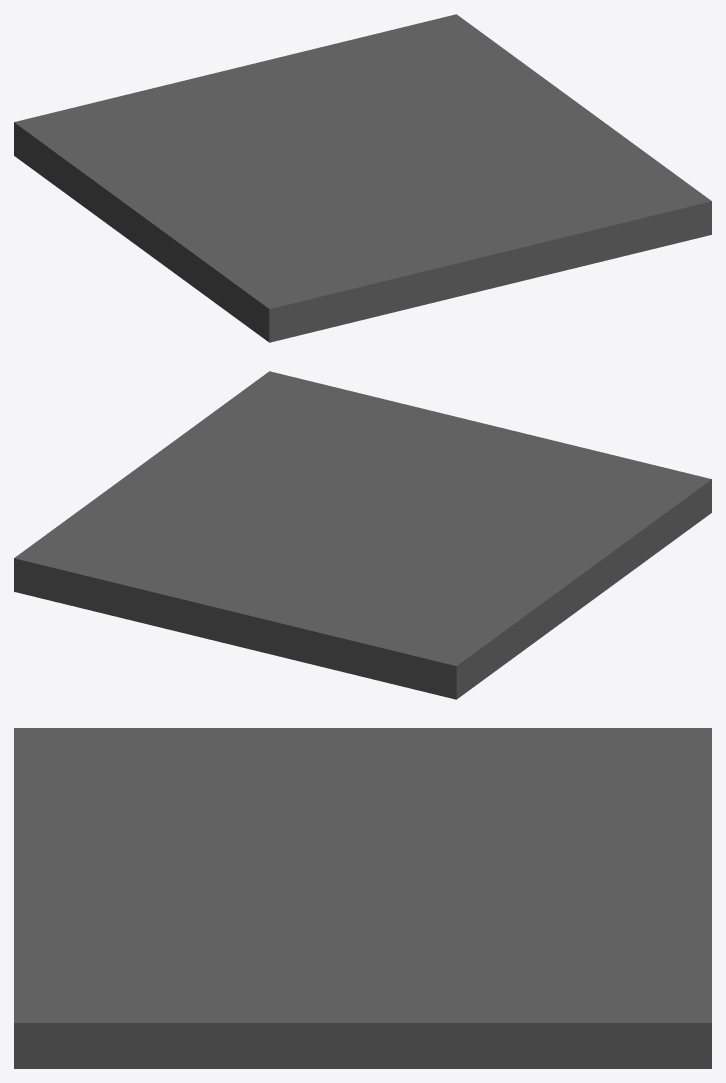
File: Ceiling_1.fbx
3 renders of one model, top to bottom at view 1: azimuth 30°, elevation 25°; view 2: azimuth 150°, elevation 25°; view 3: azimuth 270°, elevation 25°, orthographic. The views are drawn at different scales.
Parts seen in each view (by area): view 1: Ceiling_1; view 2: Ceiling_1; view 3: Ceiling_1.
Boxes of the visible parts, box(x1,y1,x2,y2) form: Ceiling_1: box(14, 14, 711, 342); Ceiling_1: box(14, 371, 711, 699); Ceiling_1: box(14, 728, 711, 1068).
Bounding box in the file's own units: 200 × 14.5 × 200.
